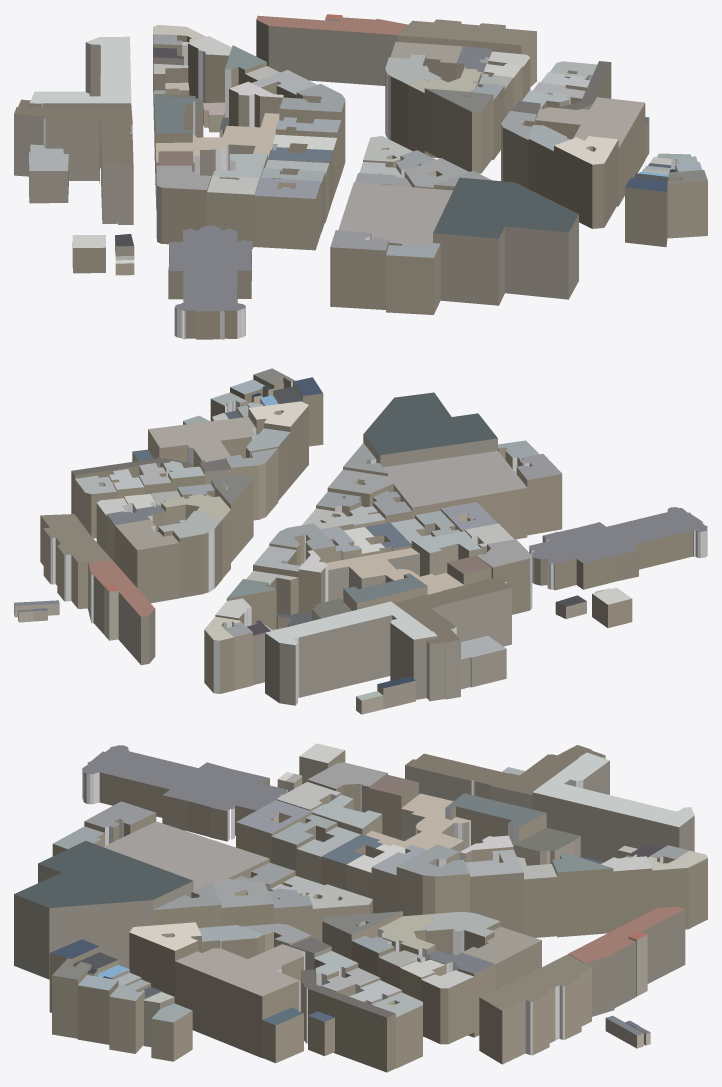
The picture shows the model from 3 angles, top to bottom: view 1: azimuth 30°, elevation 25°; view 2: azimuth 150°, elevation 25°; view 3: azimuth 270°, elevation 25°; orthographic projection. The views are drawn at different scales.
Visible parts, largest first — view 1: tuile; view 2: tuile; view 3: tuile.
Boxes of the visible parts, left/top/right/bottom form: tuile: left=14, top=14, right=707, bottom=339; tuile: left=14, top=368, right=707, bottom=714; tuile: left=14, top=743, right=707, bottom=1072.
Bounding box in the file's own units: 268 × 33.67 × 264.
